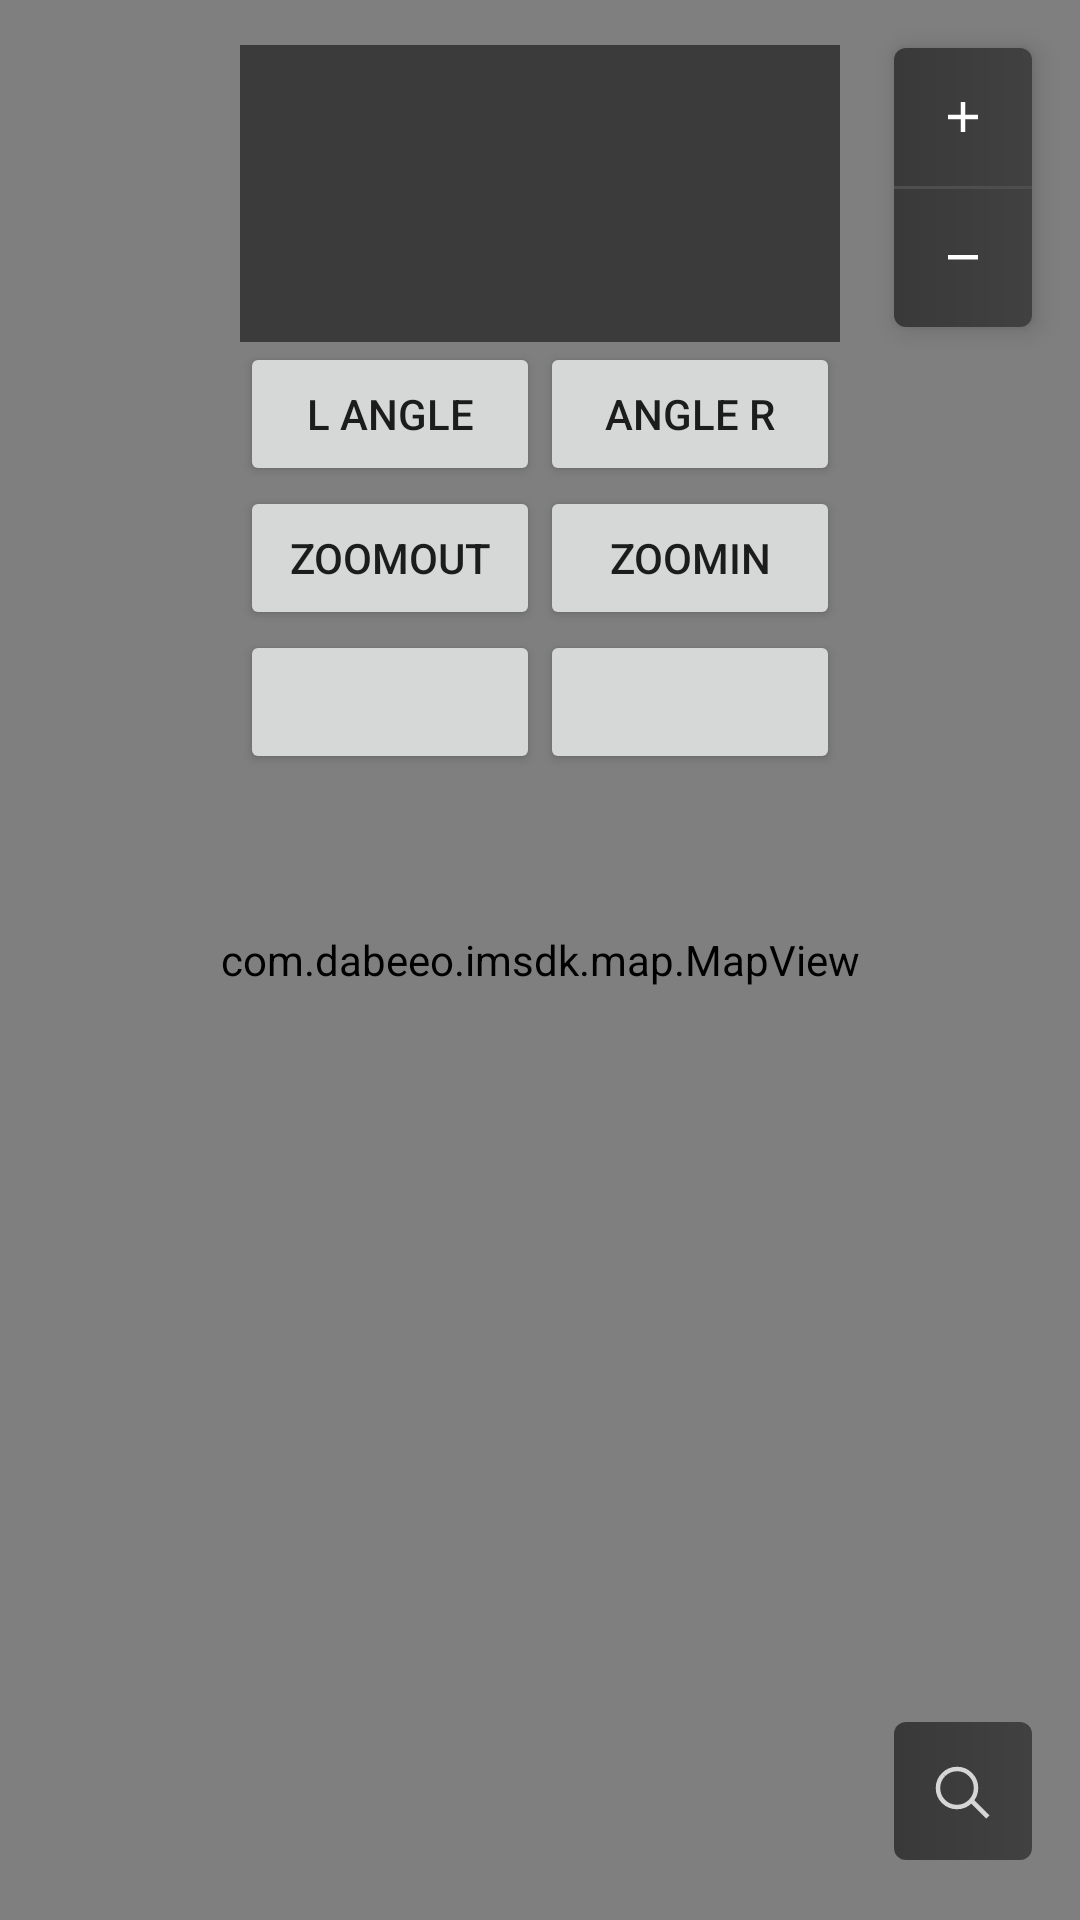

Icon click points for this 1080 x 1920 phone screenshot, format (x=x, y=y):
search: (x=963, y=1791)
zoom in: (x=963, y=117)
zoom out: (x=963, y=258)
